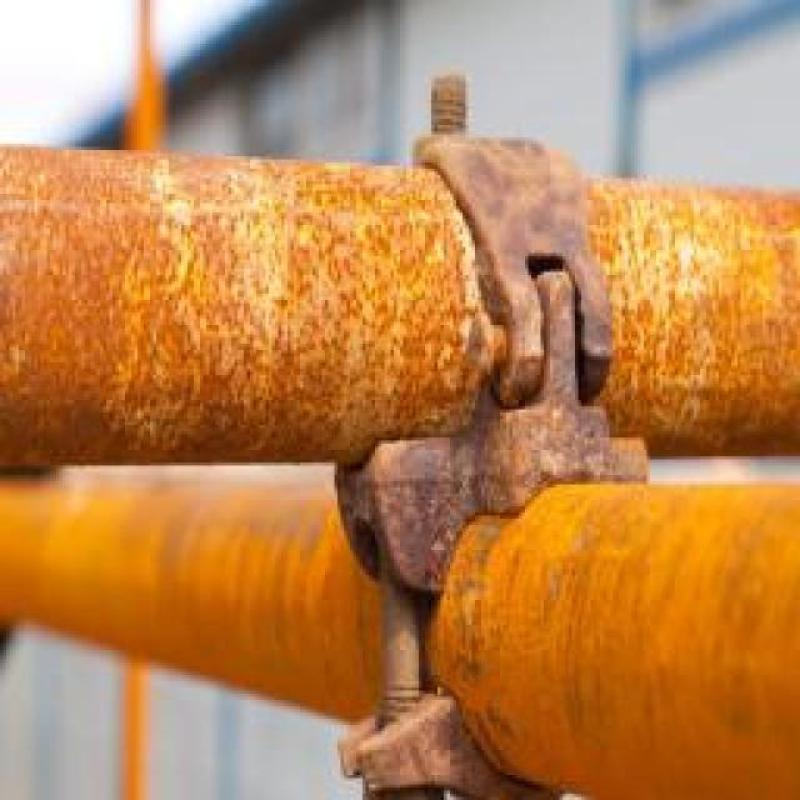corrosion: (3, 59, 797, 791)
